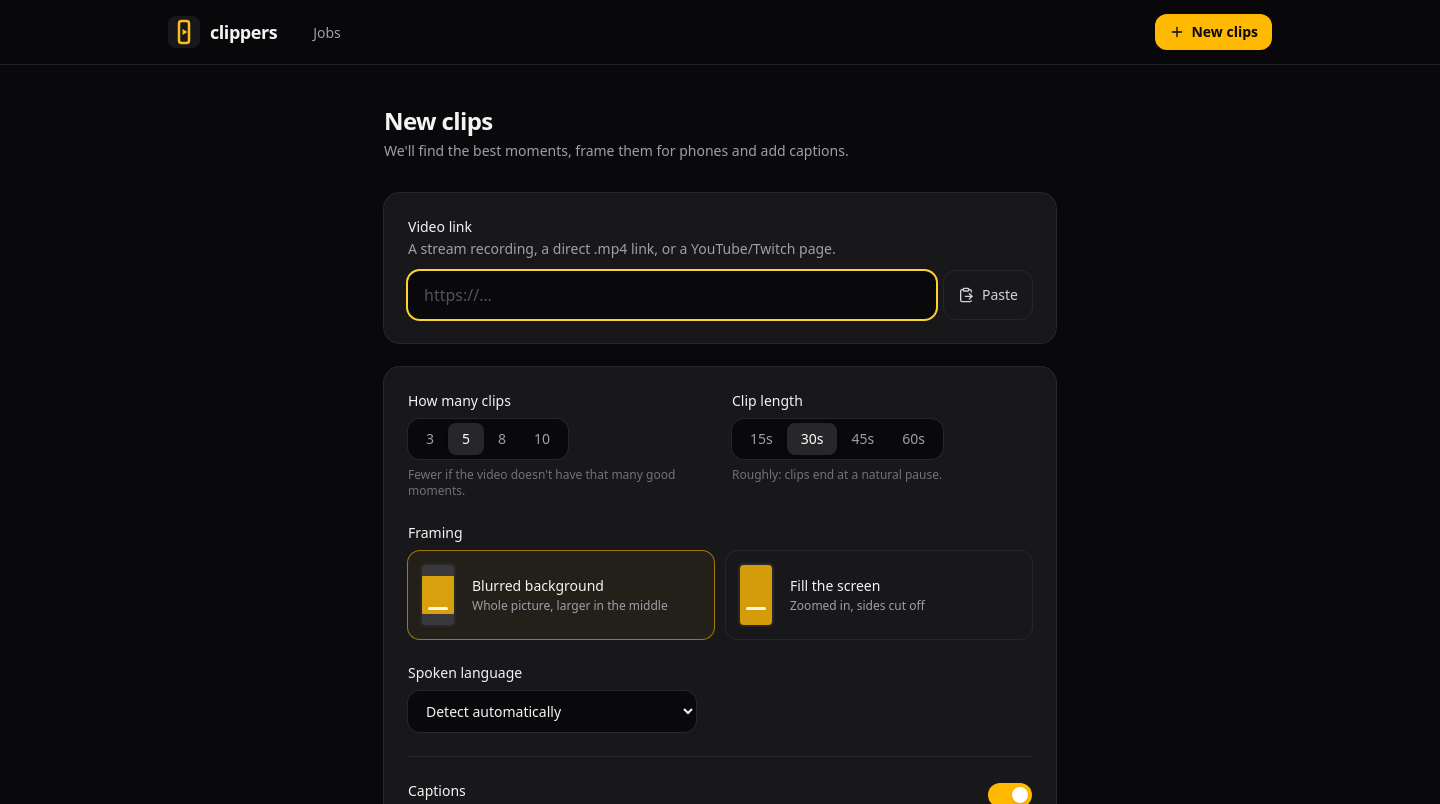
Test case: New clips page › sends the chosen options and opens the new job
Type "https://cdn.example.com/rec.mp4" into the field labelled "Video link" at (672, 295), box [408,271,936,319]
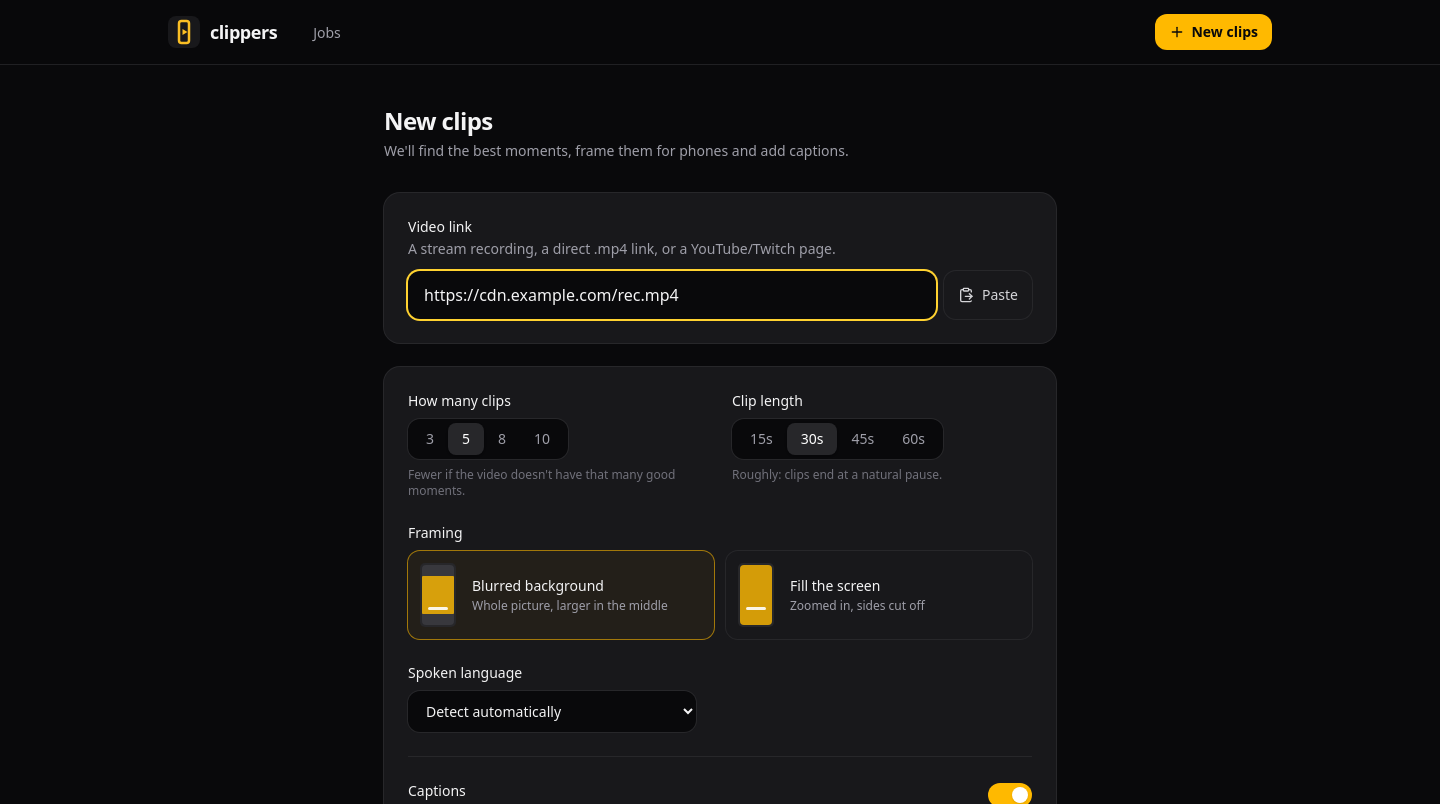
Click the radio button labelled "8" at (502, 438), box [498,429,506,448]
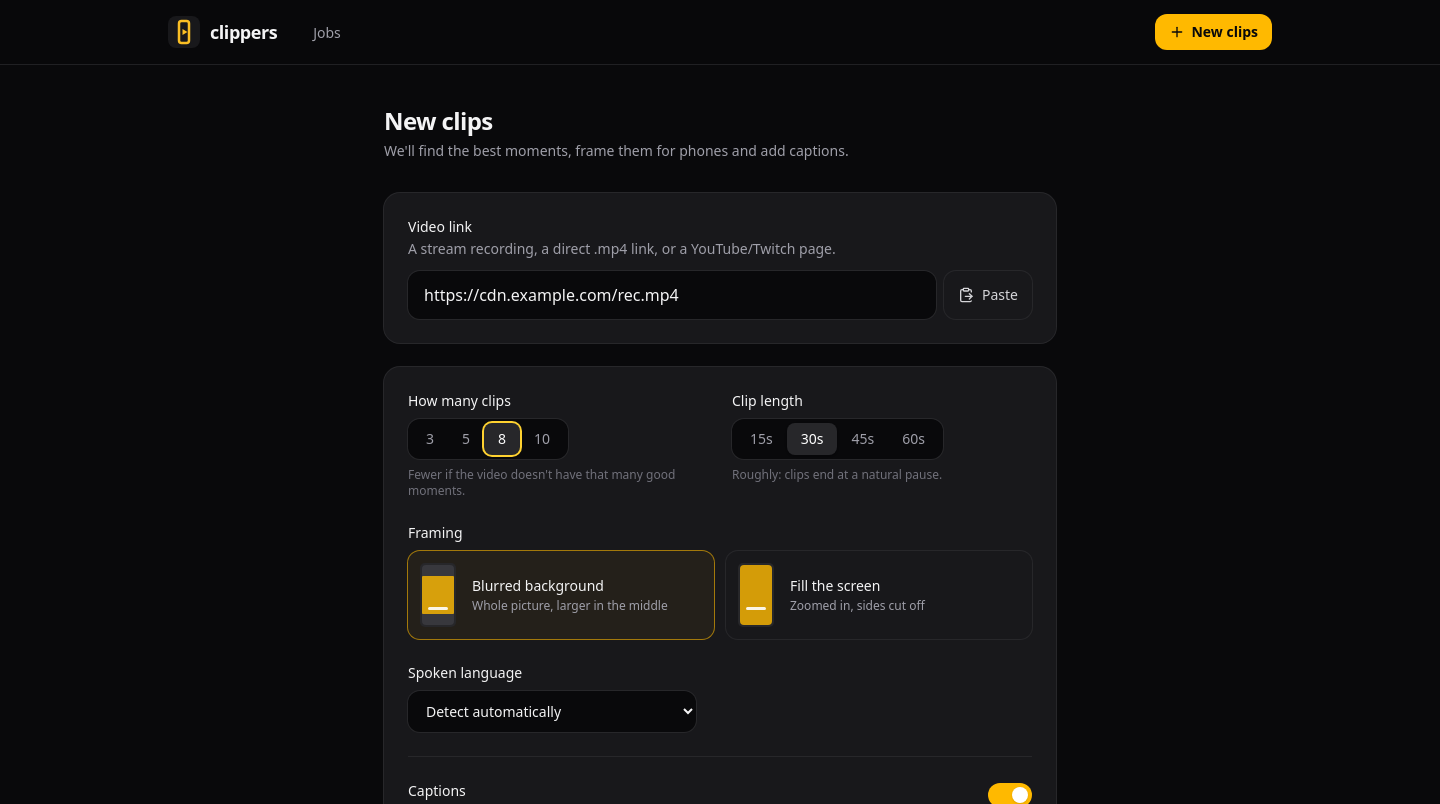
Click the radio button labelled "45s" at (863, 438), box [852,429,874,448]
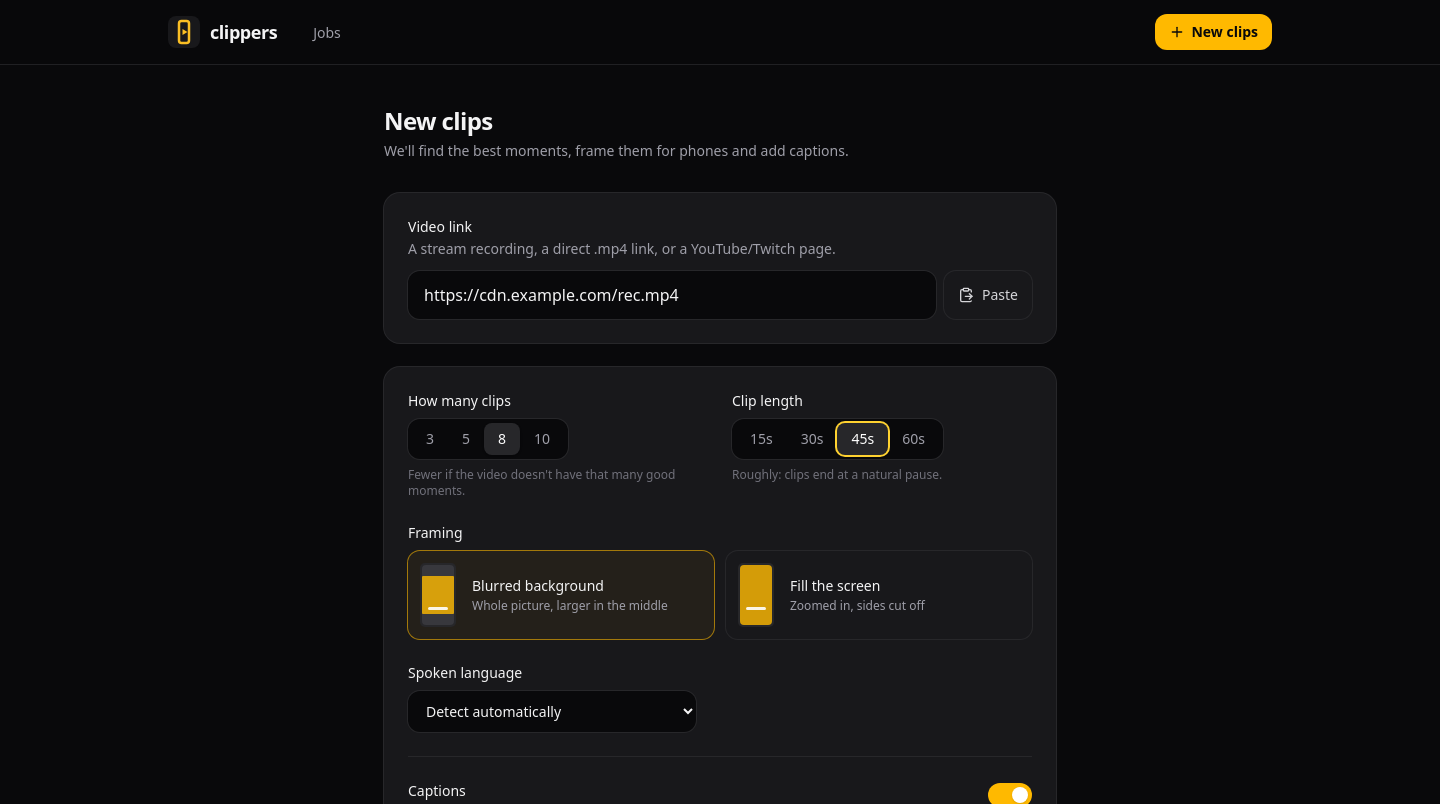
Click the radio button labelled "Fill the screen Zoomed in, sides cut off" at (879, 595), box [726,551,1032,639]
(page scrolled)
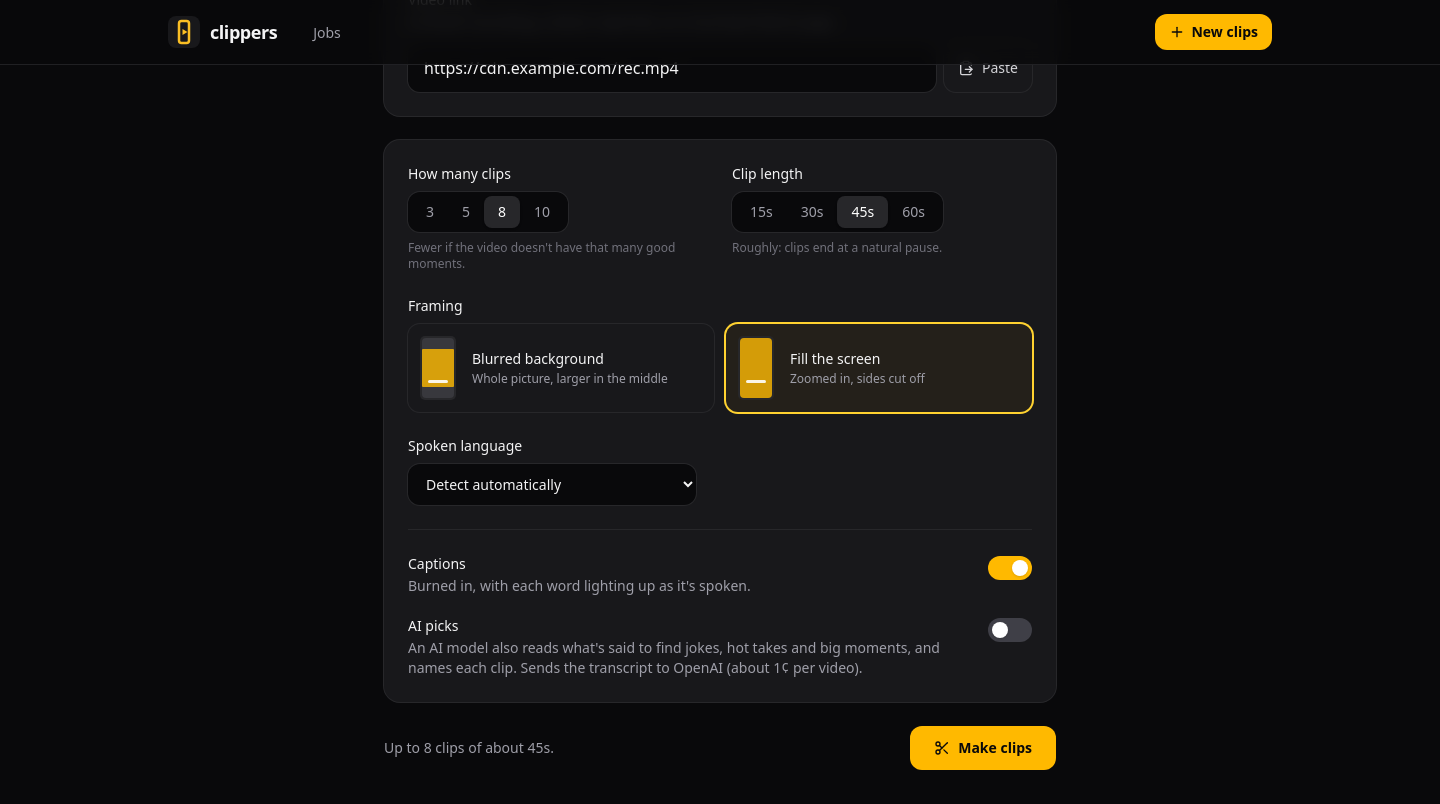
Click the switch labelled "AI picks" at (720, 647), box [408,616,1032,678]
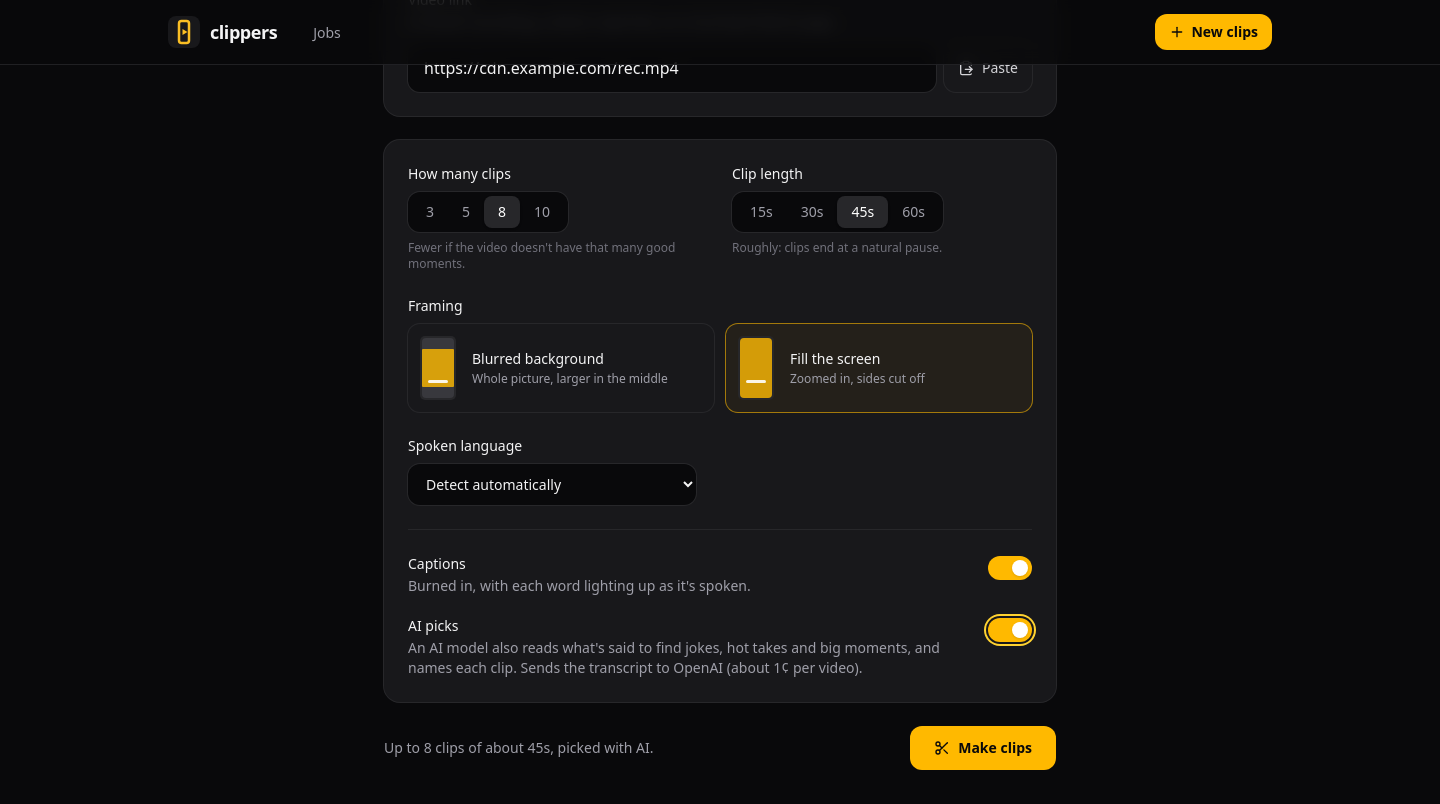
Click the button "Make clips" at (983, 748), box [910,726,1056,770]
(page scrolled)
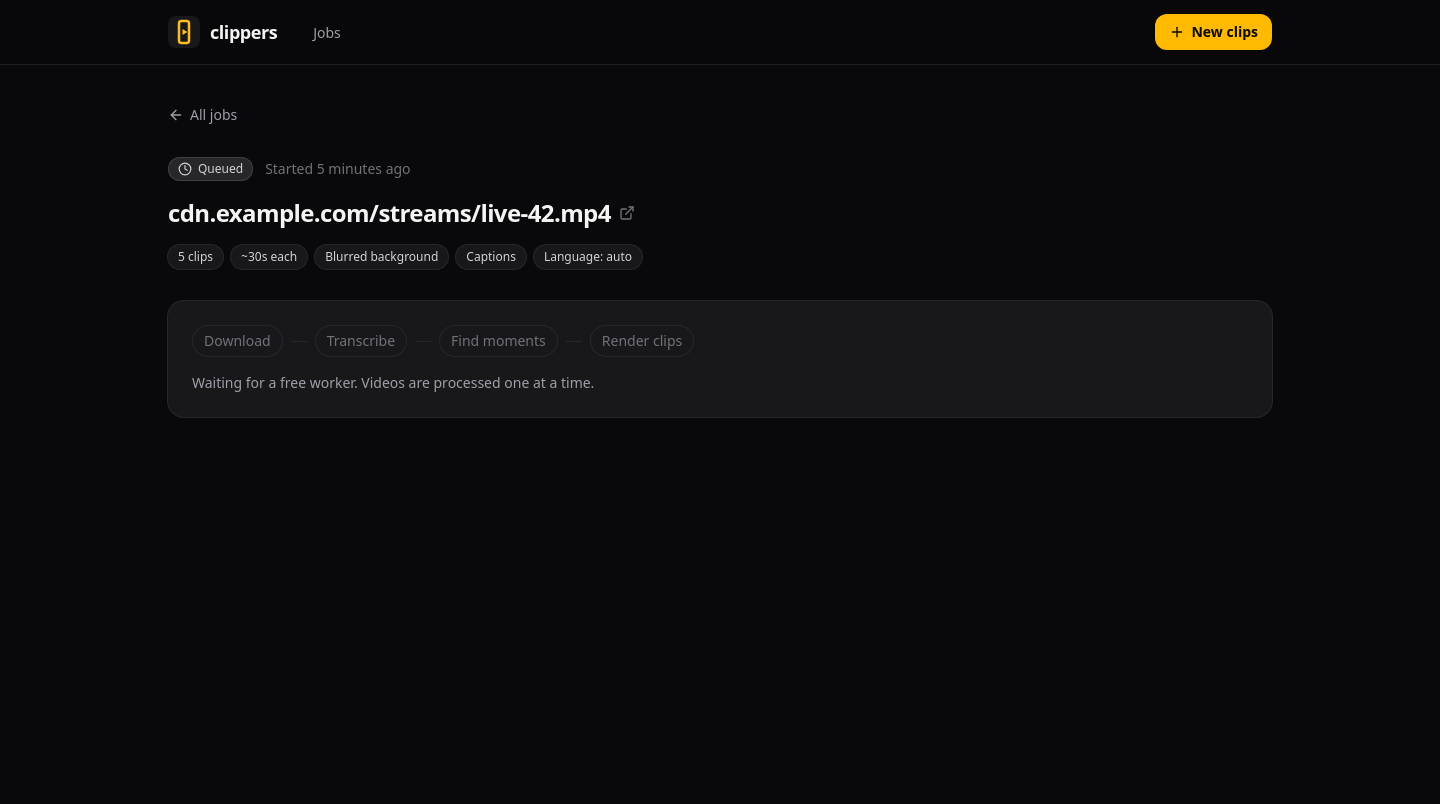
Expected: the text "Queued" is shown, [168,157,253,181]
